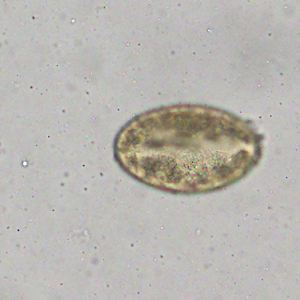Fasciola_hepatica_egg: (112, 102, 265, 197)
